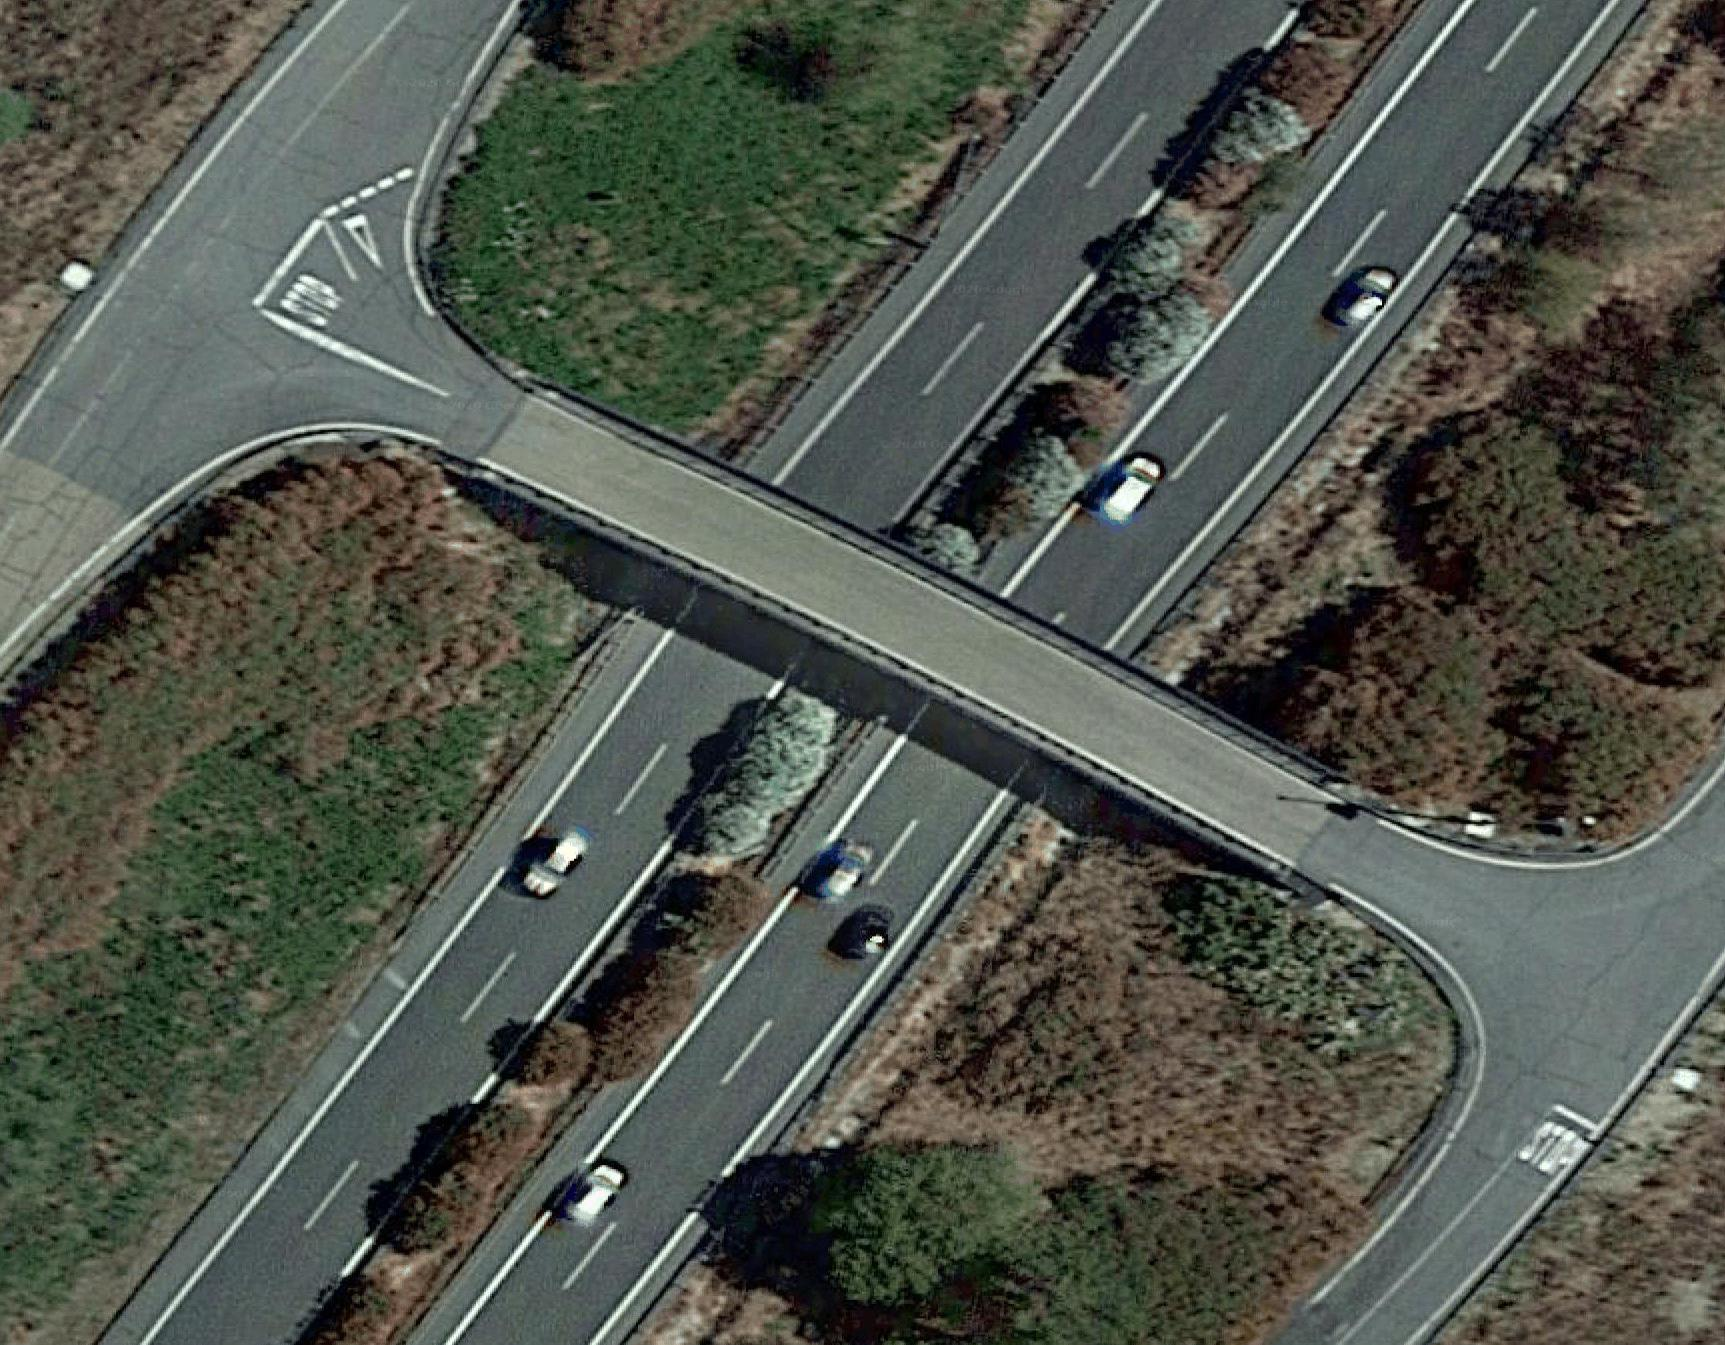bridge: (596, 390, 1263, 858)
small-vehicle: (517, 826, 612, 901), (1318, 260, 1403, 341), (801, 836, 895, 894), (552, 1156, 630, 1220), (841, 908, 898, 974)
